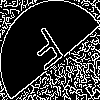F: (25, 25, 71, 79)
